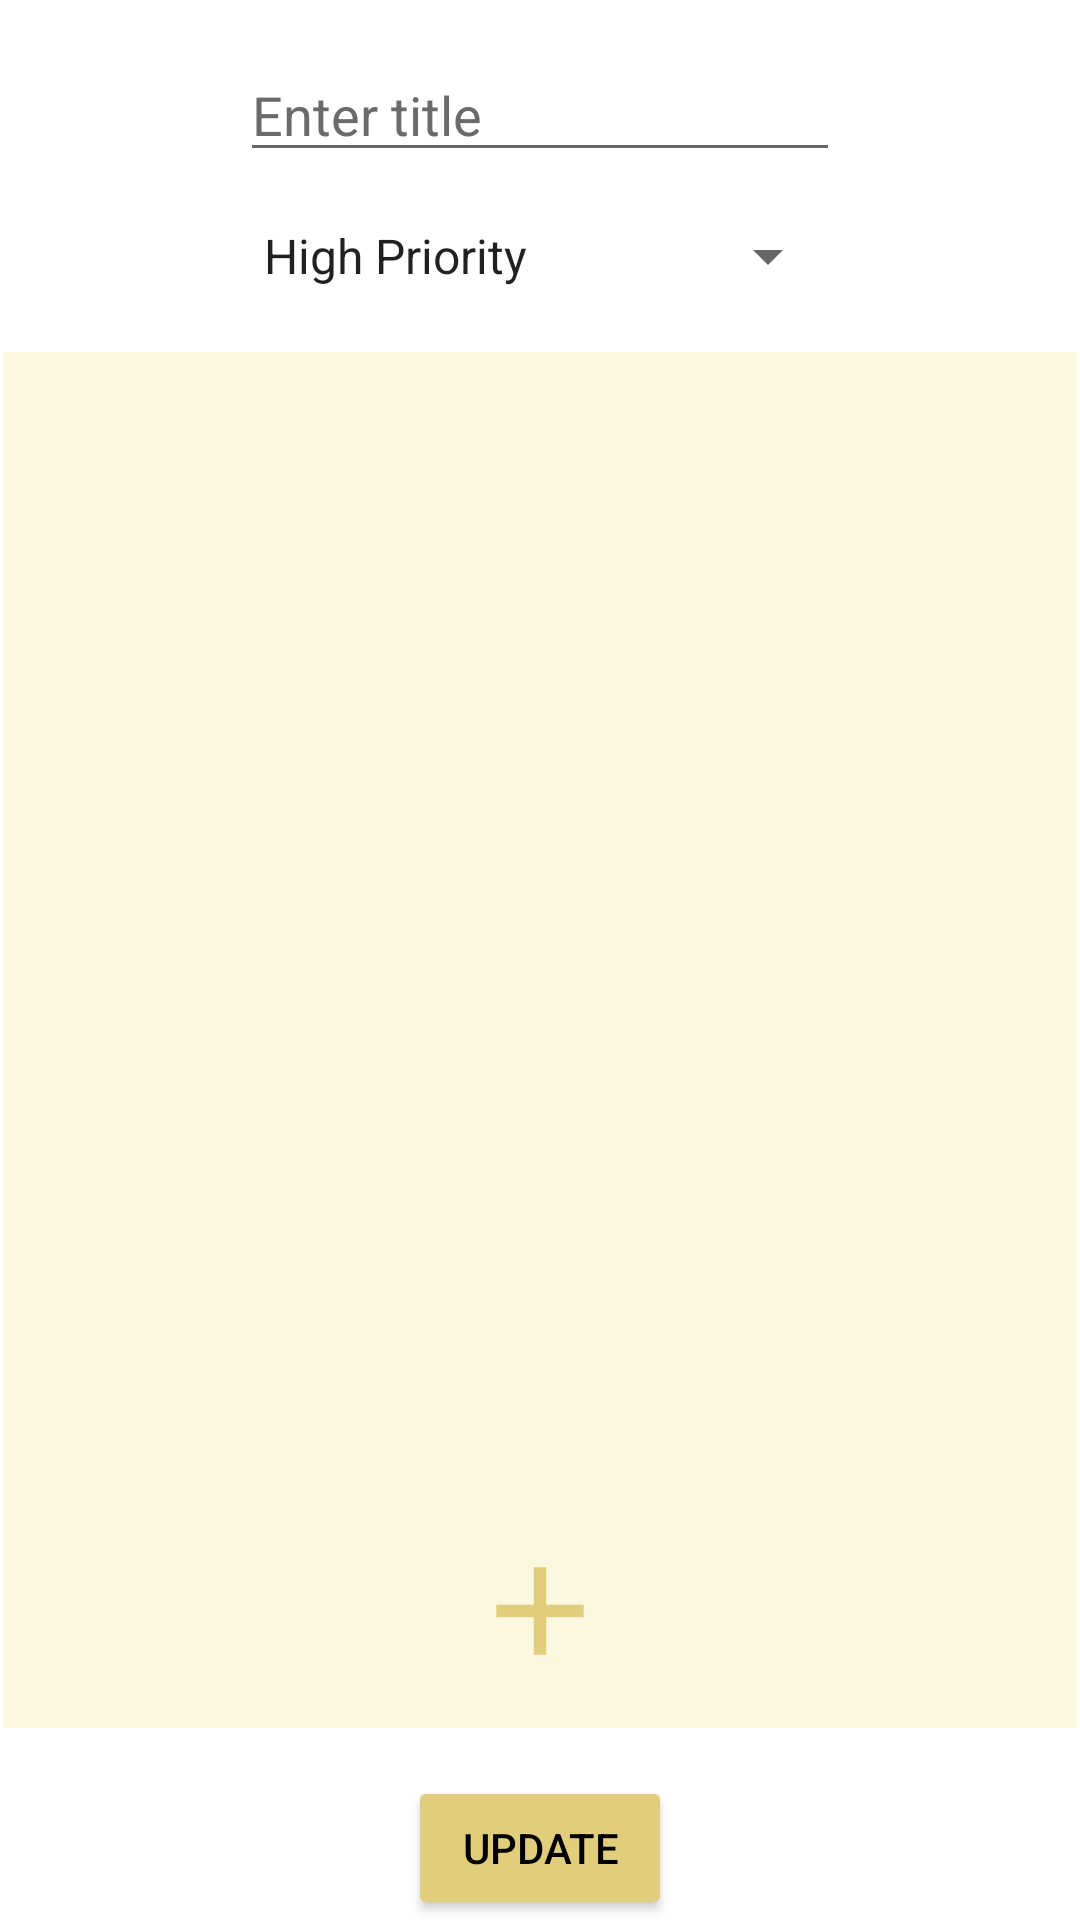

Where icons sit on this 1080×1920 app screen, as (x1, y1, x2, y2):
add: (496, 1567, 584, 1655)
